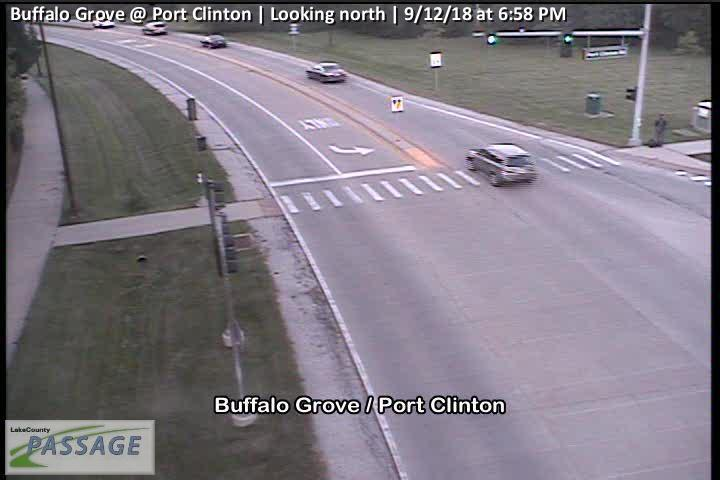SUV: (463, 144, 537, 187)
Sedan: (306, 62, 346, 82), (200, 34, 225, 48), (142, 21, 168, 34), (92, 17, 116, 27)
